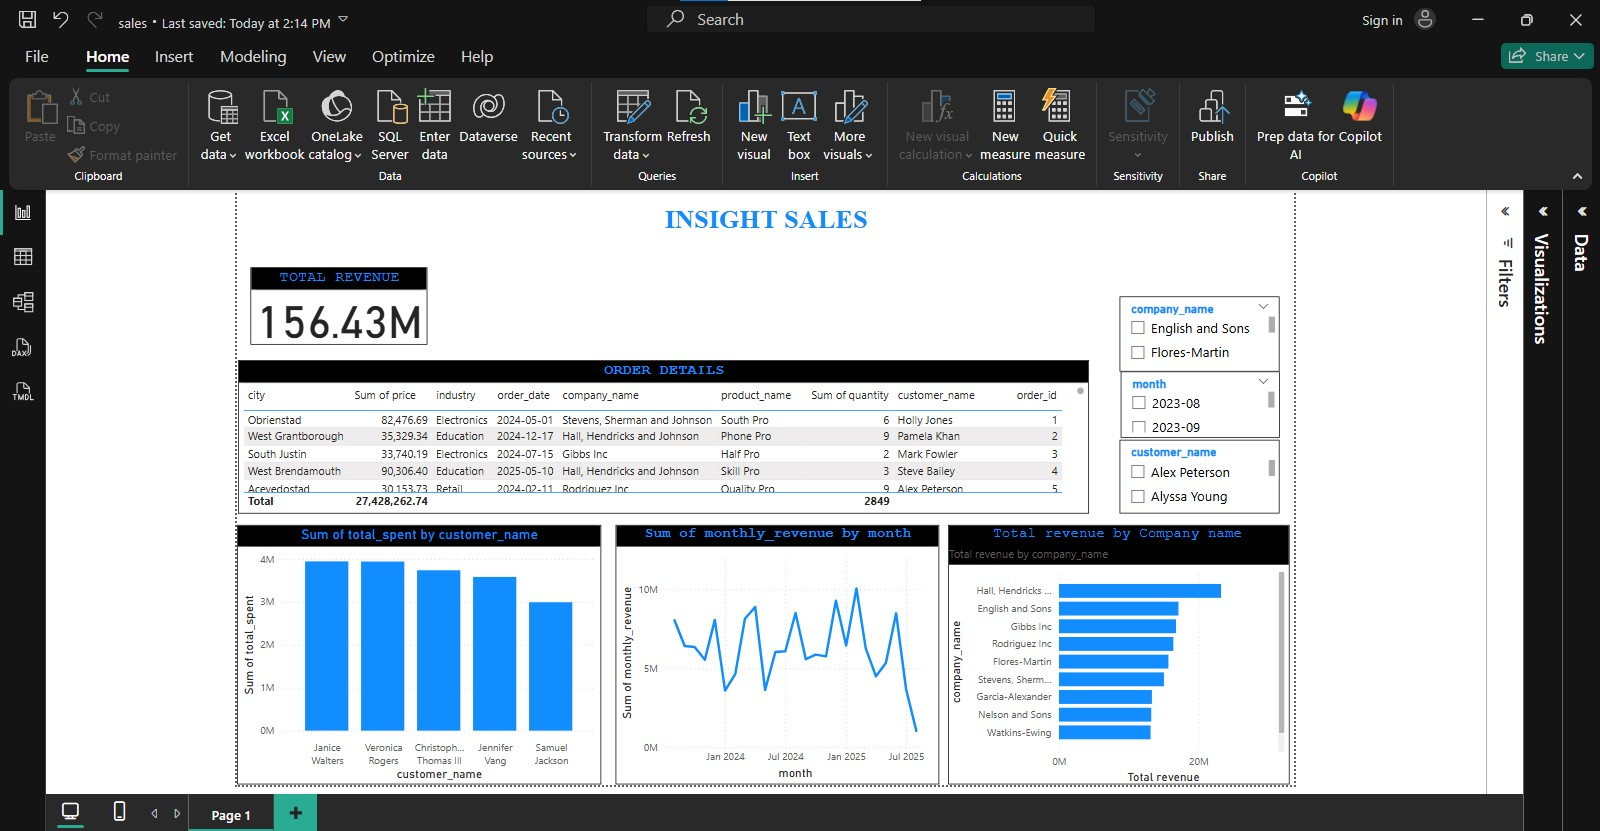

What the dashboard file says about the page in this screenshot:
{"tool":"powerbi","page":{"name":"Page 1","canvas":[1280,720],"ordinal":0},"visuals":[{"type":"card","title":"TOTAL REVENUE","fields":{"Values":["sales order_details_full.Total revenue"]},"box":[16.3,93.6,214.3,93.6],"z":0},{"type":"lineChart","fields":{"Y":["Sum(sales monthly_revenue (2).monthly_revenue)"],"Category":["sales monthly_revenue (2).month"]},"box":[458.4,405.5,391.9,314.6],"z":1000},{"type":"columnChart","fields":{"Y":["Sum(sales top_customers.total_spent)"],"Category":["sales top_customers.customer_name"]},"box":[0,405.5,440.8,314.6],"z":2000},{"type":"barChart","title":"Total revenue by Company name","fields":{"Category":["sales total_revenue_by_company.company_name"],"Y":["sales order_details_full.Total revenue"]},"box":[861.2,405.5,413.6,314.6],"z":3000},{"type":"tableEx","title":"ORDER DETAILS","fields":{"Values":["sales order_details_full.city","Sum(sales order_details_full.price)","sales order_details_full.industry","sales order_details_full.order_date","sales total_revenue_by_company.company_name","sales order_details_full.product_name","Sum(sales order_details_full.quantity)","sales order_details_full.customer_name","sales order_details_full.order_id"]},"box":[1.4,206.1,1030.7,185.8],"z":4000},{"type":"slicer","fields":{"Values":["sales total_revenue_by_company.company_name"]},"box":[1068.7,128.8,193.9,90.9],"z":5000},{"type":"slicer","fields":{"Values":["sales order_details_full.customer_name"]},"box":[1068.7,302.4,193.9,89.5],"z":6000},{"type":"slicer","fields":{"Values":["sales monthly_revenue.month"]},"box":[1070.1,219.7,192.6,80],"z":7000},{"type":"textbox","box":[151.9,10.8,977.8,47.5],"z":8000}]}

Visuals, with their boxes on the page's 1280x720 design canvas (x1, y1, x2, y2). These are canvas units, not pixel positions in the 1600x831 screenshot, which may show the page scaled, cropped or inside an application window:
"TOTAL REVENUE" card: region(16, 94, 231, 187)
lineChart - Sum(sales monthly_revenue (2).monthly_revenue) x sales monthly_revenue (2).month: region(458, 406, 850, 720)
columnChart - Sum(sales top_customers.total_spent) x sales top_customers.customer_name: region(0, 406, 441, 720)
"Total revenue by Company name" barChart: region(861, 406, 1275, 720)
"ORDER DETAILS" tableEx: region(1, 206, 1032, 392)
slicer - sales total_revenue_by_company.company_name: region(1069, 129, 1263, 220)
slicer - sales order_details_full.customer_name: region(1069, 302, 1263, 392)
slicer - sales monthly_revenue.month: region(1070, 220, 1263, 300)
textbox: region(152, 11, 1130, 58)
